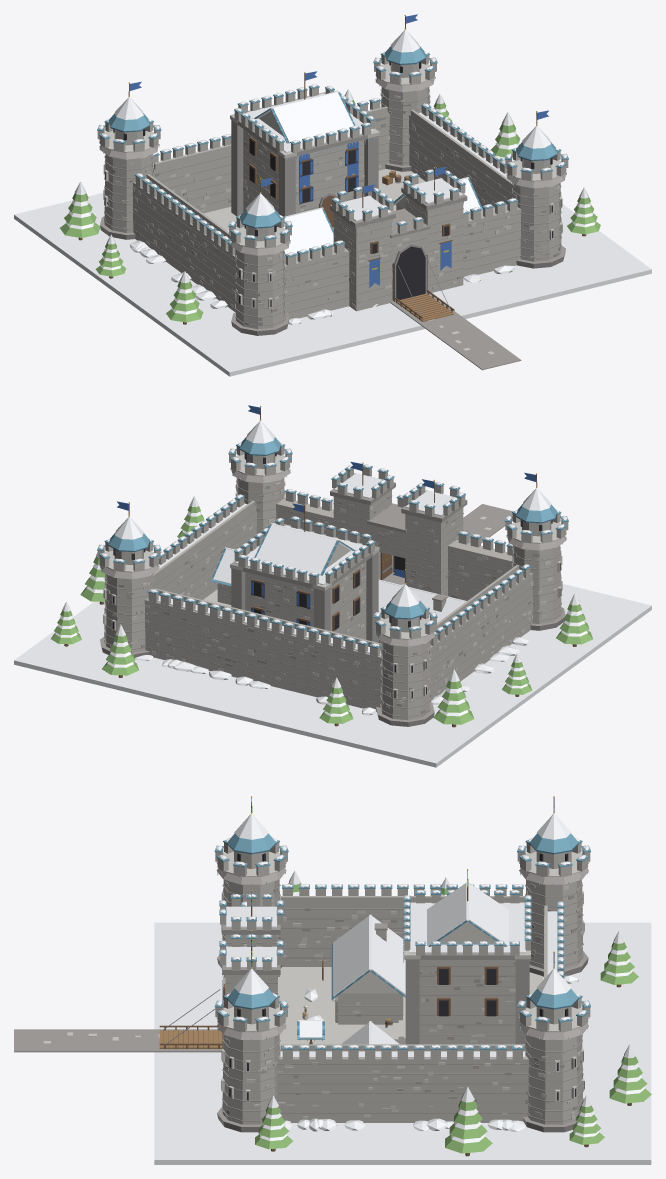
File: Building_SnowyCastle.glb
3 views of the same model, one above another, from view 1: azimuth 30°, elevation 25°; view 2: azimuth 150°, elevation 25°; view 3: azimuth 270°, elevation 25° (orthographic). The views are drawn at different scales.
Visible parts, largest first — view 1: SnowyCastle; view 2: SnowyCastle; view 3: SnowyCastle.
Part boxes in pixels (box(x1,y1,x2,y2)): SnowyCastle: box(14, 14, 651, 376); SnowyCastle: box(14, 405, 651, 767); SnowyCastle: box(14, 796, 651, 1164).
Bounding box in the file's own units: 53.91 × 18.21 × 59.06.
